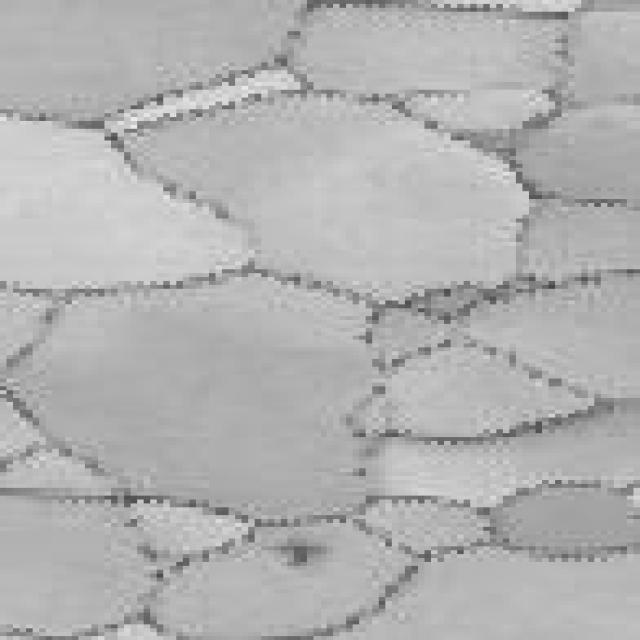good_void: (264, 538, 330, 564)
